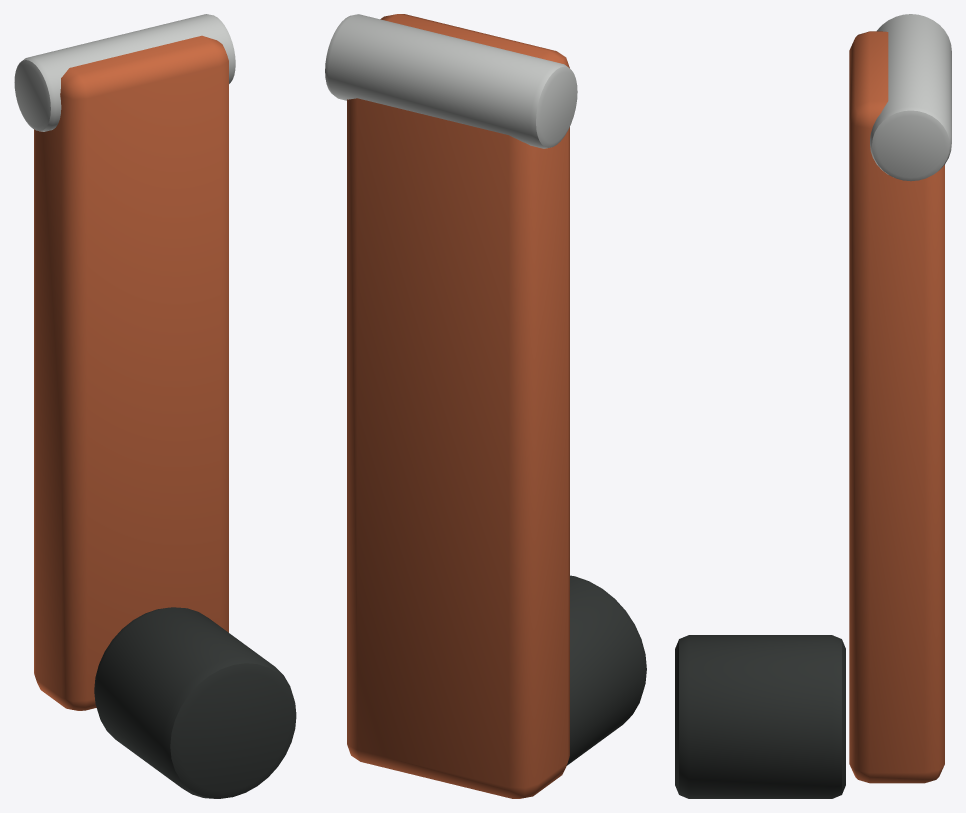
The model's file is wire_feeder_pressure_arm.glb.
3 renders of one model, left to right at view 1: azimuth 30°, elevation 25°; view 2: azimuth 150°, elevation 25°; view 3: azimuth 270°, elevation 25°, orthographic. The views are drawn at different scales.
Parts seen in each view (by area): view 1: wire_feeder_pressure_arm; view 2: wire_feeder_pressure_arm; view 3: wire_feeder_pressure_arm.
Part boxes in pixels (x1,y1,x2,y2): wire_feeder_pressure_arm: [14, 14, 296, 798]; wire_feeder_pressure_arm: [325, 14, 646, 798]; wire_feeder_pressure_arm: [675, 14, 951, 798].
Size of the model in its own units: 0.034 by 0.118 by 0.0405.
